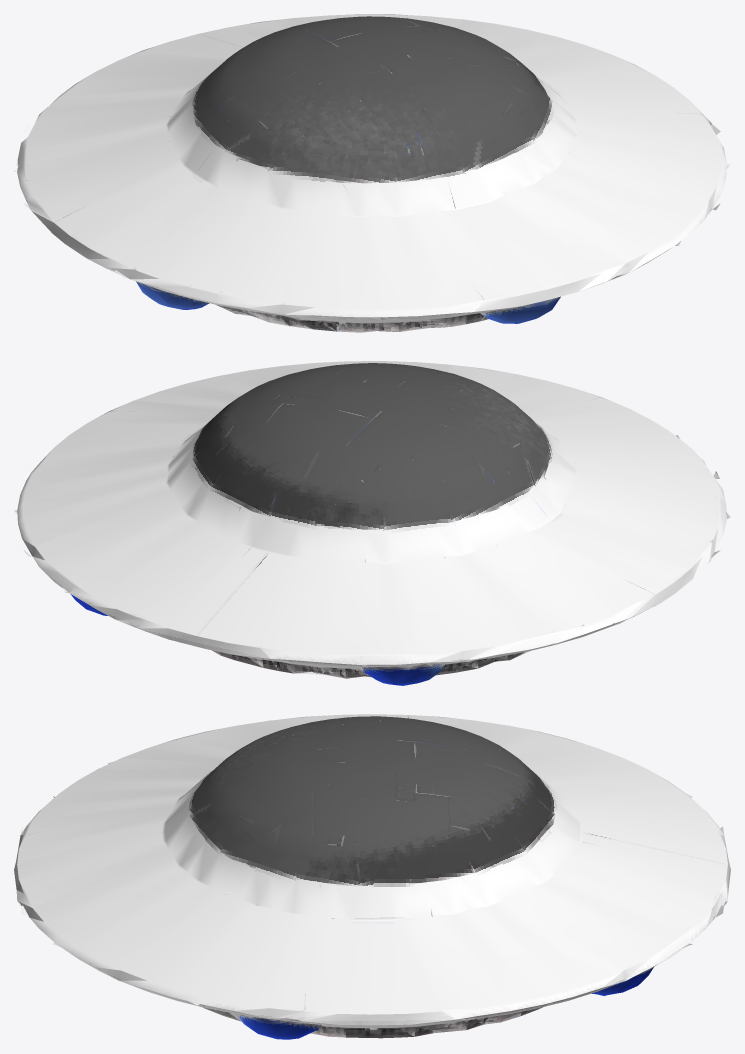
File: ufo.glb
The picture shows the model from 3 angles, top to bottom: view 1: azimuth 30°, elevation 25°; view 2: azimuth 150°, elevation 25°; view 3: azimuth 270°, elevation 25°; orthographic projection.
Parts seen in each view (by area): view 1: mesh; view 2: mesh; view 3: mesh.
Boxes of the visible parts, left/top/right/bottom form: mesh: left=14, top=14, right=730, bottom=332; mesh: left=14, top=361, right=730, bottom=685; mesh: left=14, top=714, right=730, bottom=1039.
Size of the model in its own units: 5.07 by 1.5 by 5.07.
Materials: 1 (1 with a texture image).
